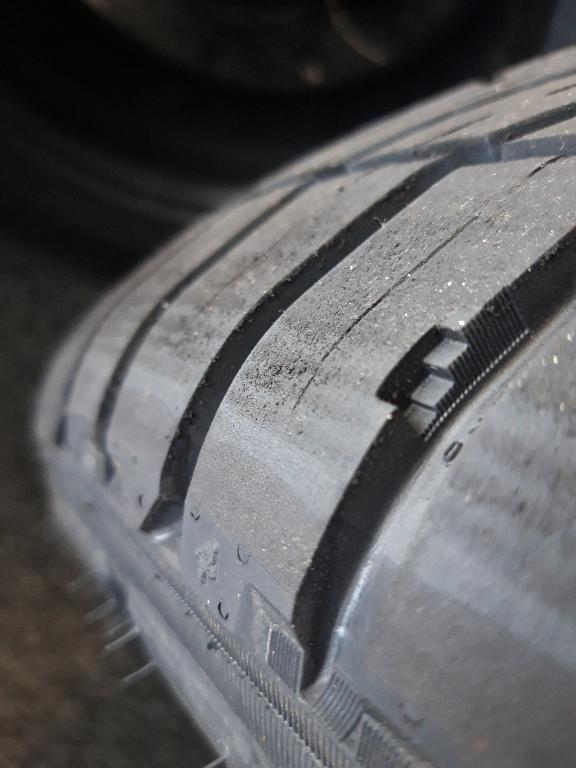temoin:75: (369, 300, 514, 448)
